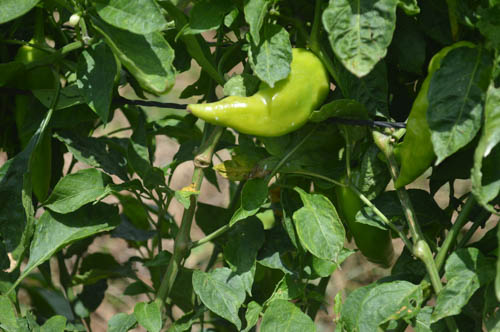ChiliPepper: (389, 45, 481, 202), (180, 53, 331, 144), (337, 176, 399, 266)
